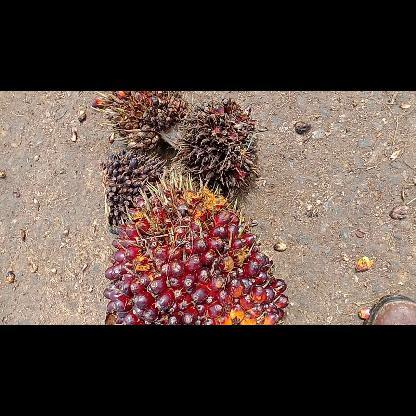TBS abnormal: (174, 98, 260, 190), (87, 90, 190, 152), (100, 148, 166, 226)
TBS masak: (99, 180, 293, 324)
